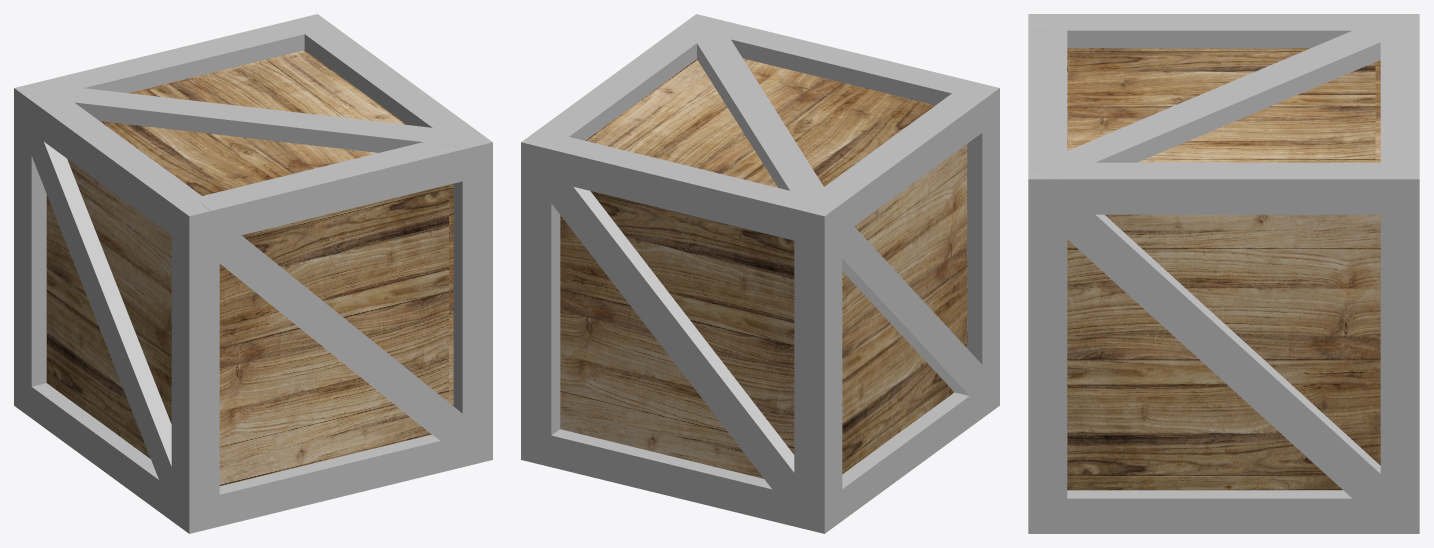
The model's file is Caixas.fbx.
3 views of the same model, side by side, from view 1: azimuth 30°, elevation 25°; view 2: azimuth 150°, elevation 25°; view 3: azimuth 270°, elevation 25° (orthographic). The views are drawn at different scales.
Visible parts, largest first — view 1: Cubo; view 2: Cubo; view 3: Cubo.
Boxes of the visible parts, x1,y1,x2,y2 form: Cubo: (14,14,492,533); Cubo: (521,14,999,533); Cubo: (1028,14,1419,533).
Bounding box in the file's own units: 200 × 200 × 200.
